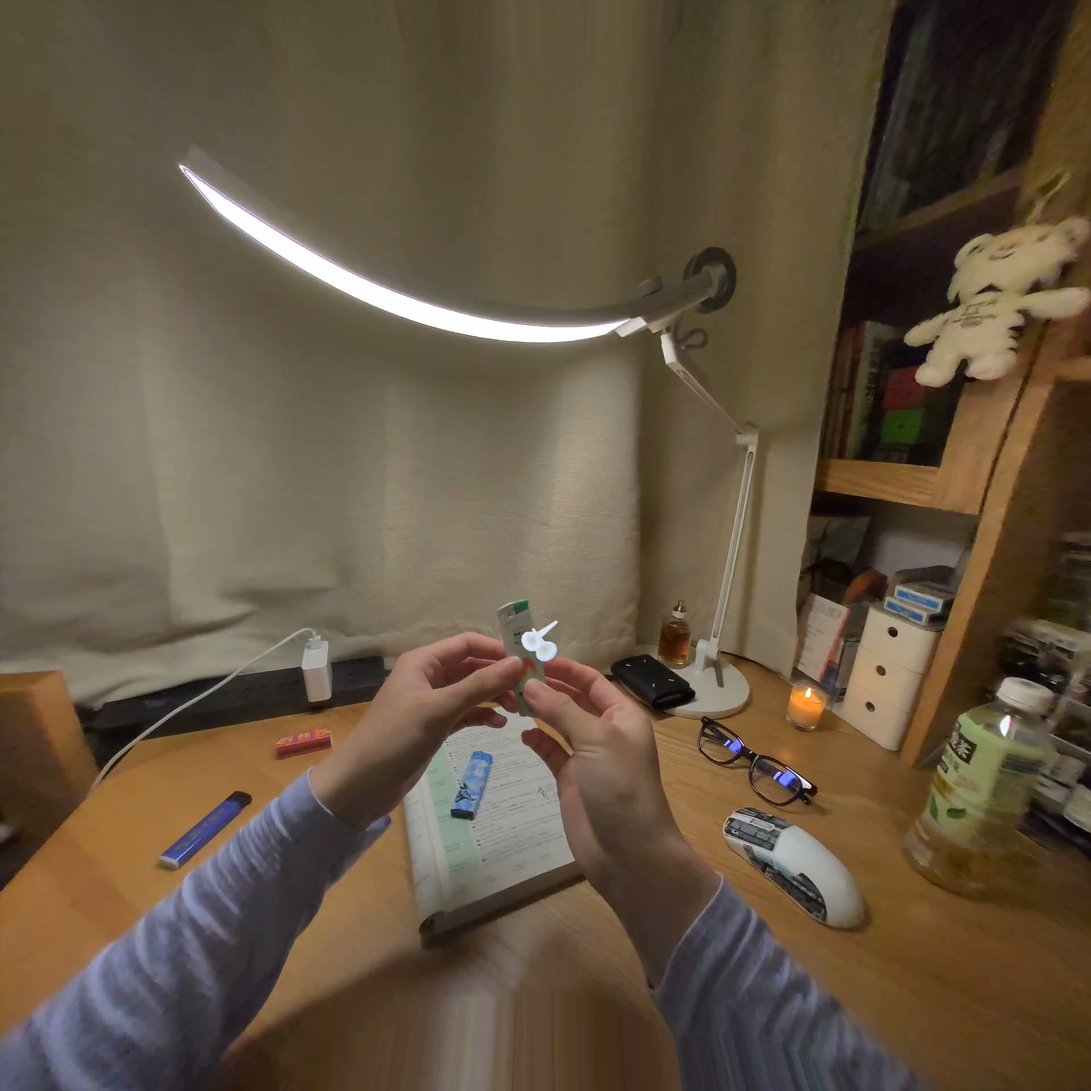lighter: (497, 600, 545, 715)
